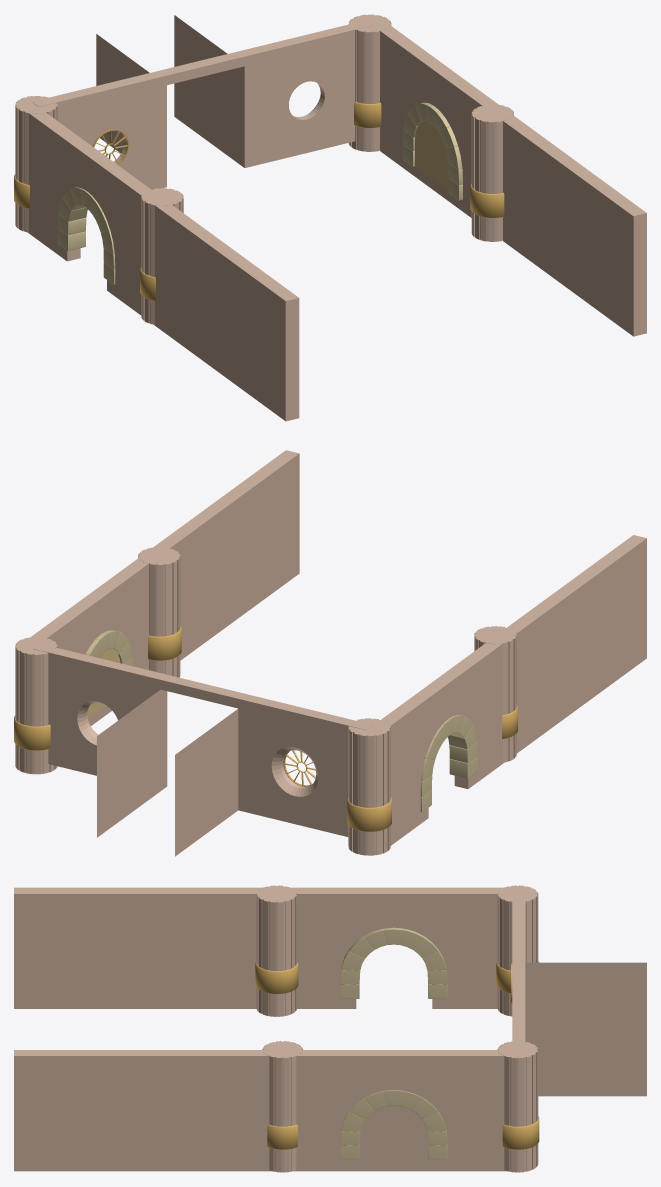
The model's file is Pareddesteste.fbx.
3 renders of one model, top to bottom at view 1: azimuth 30°, elevation 25°; view 2: azimuth 150°, elevation 25°; view 3: azimuth 270°, elevation 25°, orthographic. The views are drawn at different scales.
Visible parts, largest first — view 1: Cube.105, Cube.001, Cube.103, Pilar.002, Door, Pilar.003, OpenDoor, Pilar, Pilar.001; view 2: Cube.001, Cube.105, Cube.103, Pilar.001, Pilar.003, Pilar.002, OpenDoor, Pilar, Door; view 3: Cube.103, Cube.105, Cube.001, Pilar, Pilar.003, Pilar.002, OpenDoor, Door, Pilar.001.
Boxes of the visible parts, x1,y1,x2,y2 form: Cube.105: (28, 113, 299, 421); Cube.001: (32, 15, 372, 189); Cube.103: (380, 25, 646, 336); Pilar.002: (470, 104, 513, 241); Door: (403, 102, 462, 200); Pilar.003: (348, 14, 391, 151); OpenDoor: (57, 187, 115, 284); Pilar: (140, 188, 183, 324); Pilar.001: (14, 96, 57, 232); Cube.001: (33, 643, 372, 856); Cube.105: (381, 535, 646, 845); Cube.103: (30, 450, 299, 725); Pilar.001: (347, 718, 391, 855); Pilar.003: (14, 637, 57, 774); Pilar.002: (138, 547, 181, 677); OpenDoor: (420, 715, 477, 812); Pilar: (474, 626, 517, 762); Door: (85, 630, 132, 718); Cube.103: (14, 1050, 506, 1171); Cube.105: (14, 887, 504, 1008); Cube.001: (512, 893, 646, 1096); Pilar: (255, 885, 298, 1016); Pilar.003: (497, 1041, 539, 1172); Pilar.002: (262, 1041, 302, 1172); OpenDoor: (340, 927, 447, 998); Door: (340, 1090, 447, 1159); Pilar.001: (496, 885, 539, 1016).
Size of the model in its own units: 1398 by 433 by 2151.
